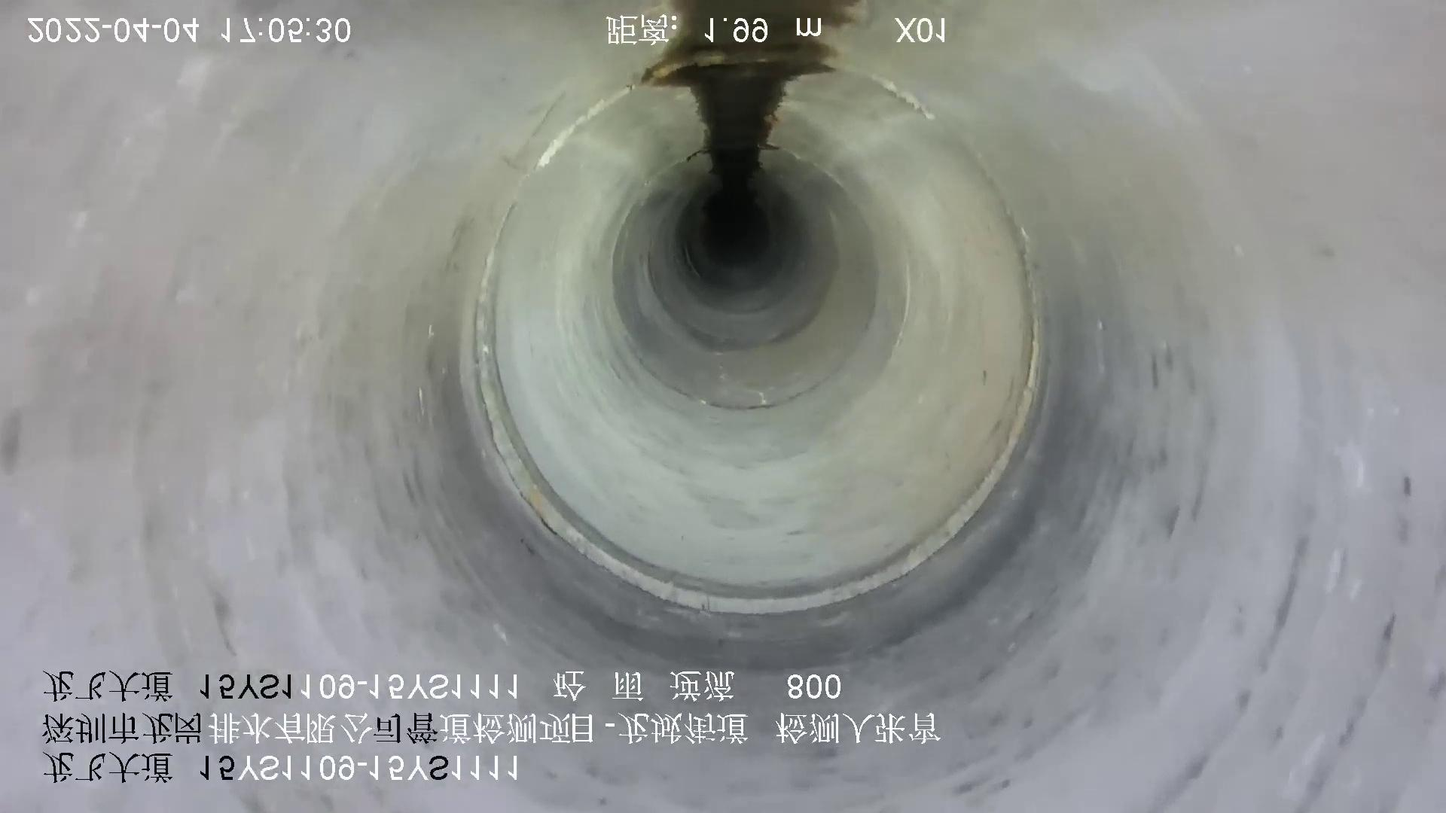CKTJ: (471, 218, 1041, 614), (538, 88, 630, 166)
